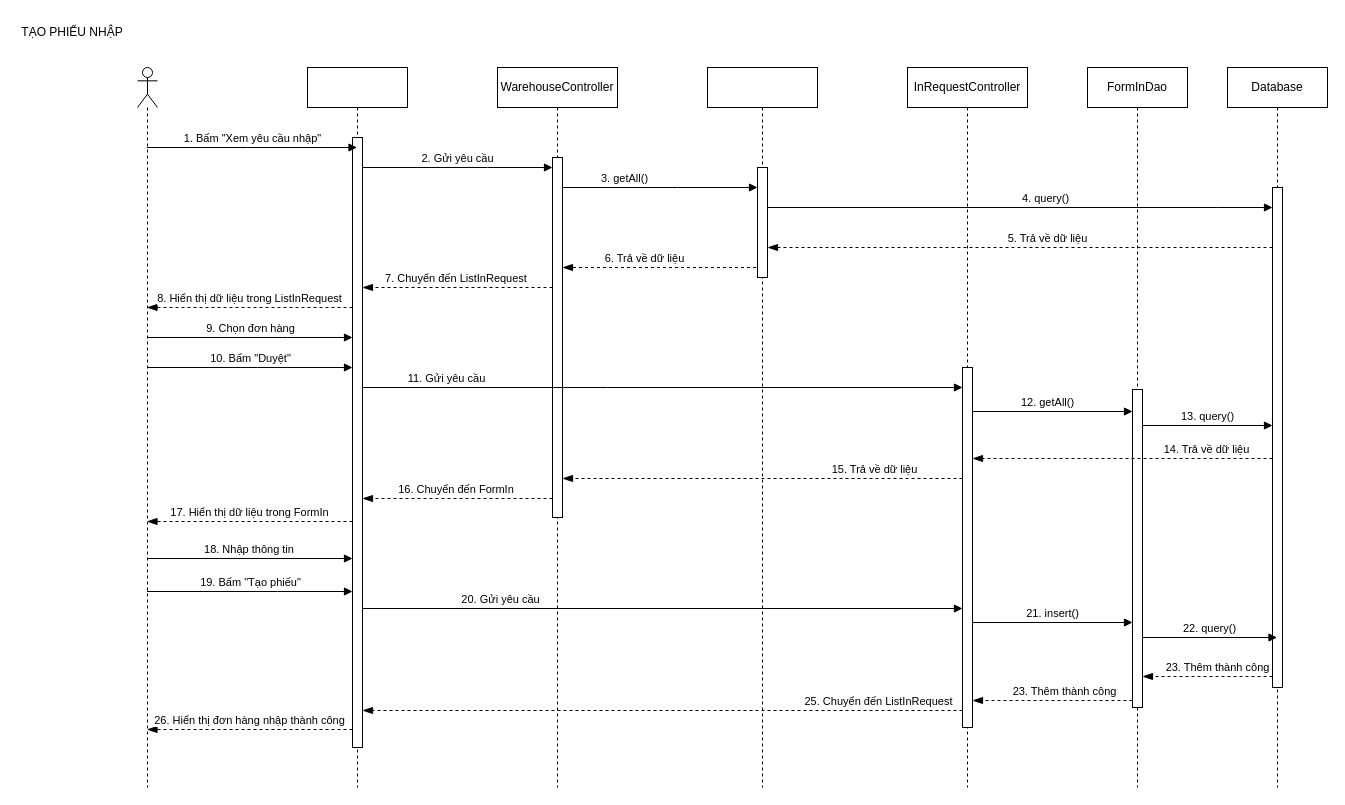
The diagram is 1345 pixels wide and 805 high, and some of its shapes have lost their labels. Each missing label, with the box of its shape:
FormRequestDao: (706, 66, 818, 788)
View: (306, 66, 408, 788)
